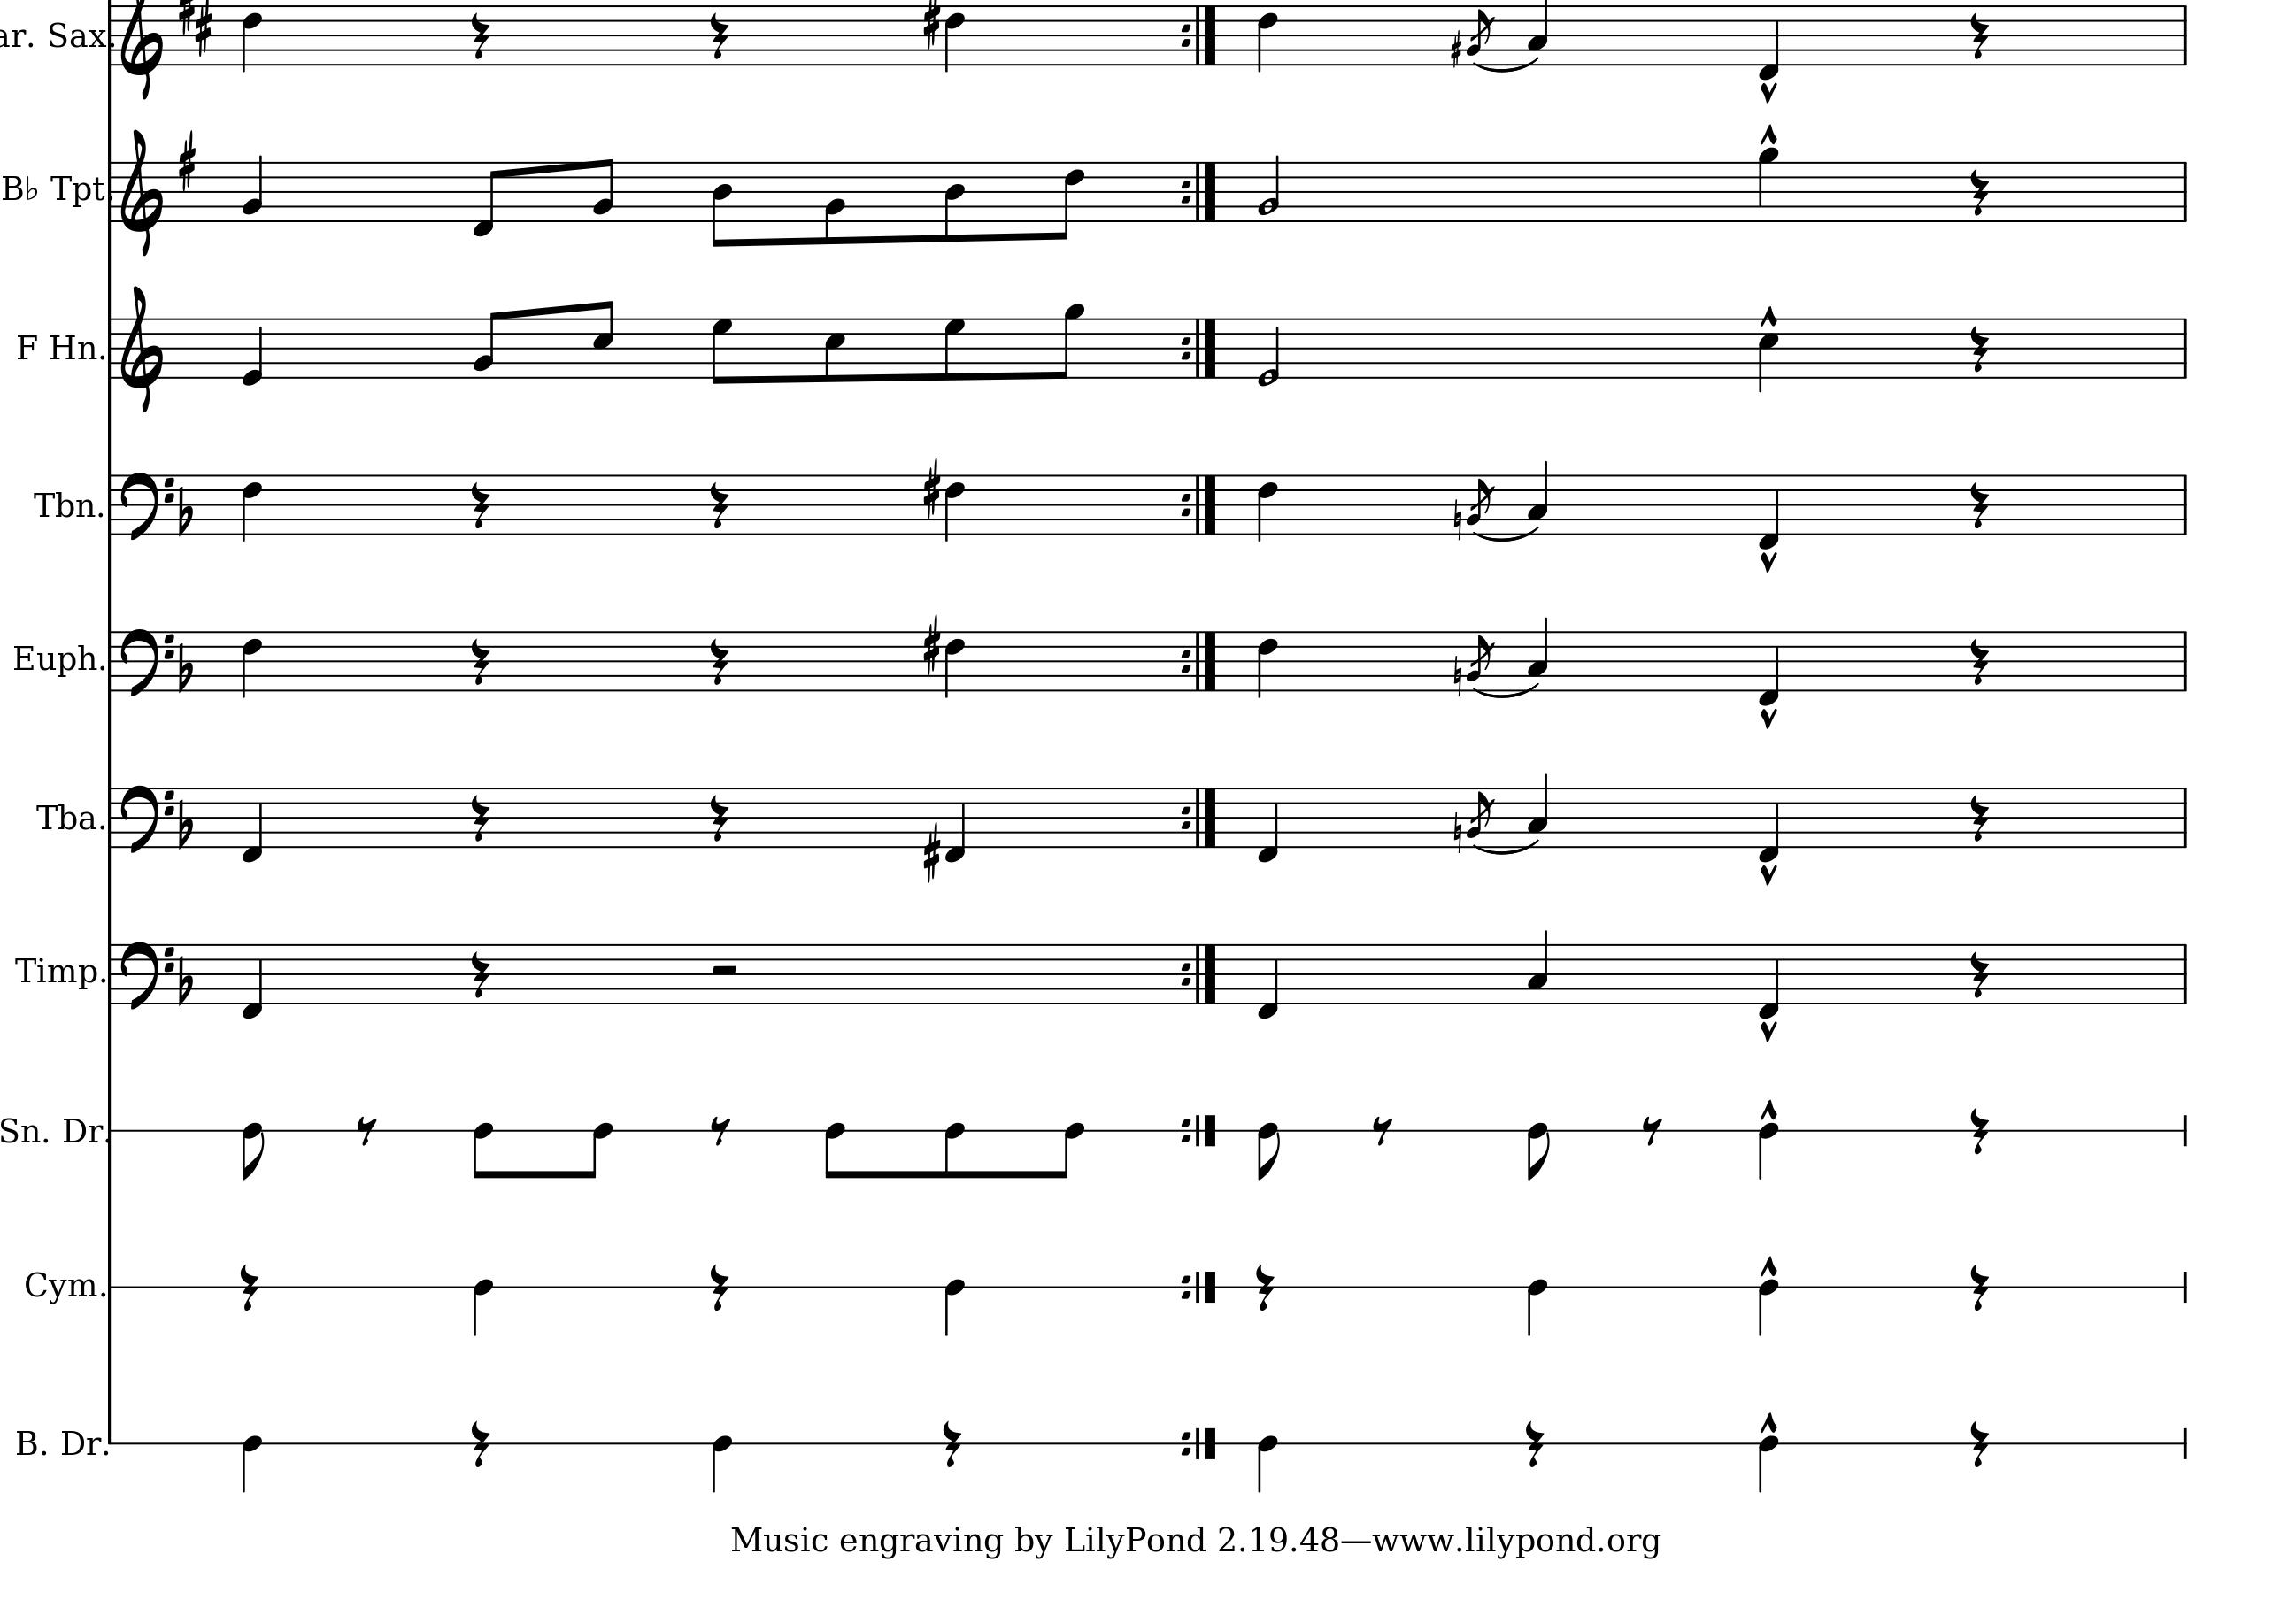2_0: (1256, 314, 1282, 388)
2_2: (1256, 153, 1282, 223)
4_-1: (241, 783, 265, 862), (1256, 785, 1281, 862), (1256, 941, 1281, 1019), (945, 783, 968, 862), (1758, 783, 1781, 862), (242, 940, 265, 1019), (1758, 2, 1781, 79), (1758, 471, 1781, 548), (1758, 629, 1781, 706), (1758, 941, 1781, 1019)
4_0: (241, 316, 265, 388)
4_2: (242, 153, 265, 223)
4_3: (1527, 457, 1549, 536), (1527, 615, 1549, 692), (1527, 771, 1549, 848), (1527, 927, 1549, 1005)
4_4: (1758, 1435, 1787, 1493), (1757, 1121, 1781, 1179), (711, 1432, 734, 1493), (1256, 1432, 1279, 1491), (242, 1432, 264, 1493), (471, 1275, 492, 1337), (943, 1275, 964, 1337), (1527, 1277, 1548, 1338), (1758, 1279, 1781, 1333)
4_5: (1757, 314, 1780, 395)
4_6: (241, 4, 264, 74), (241, 472, 264, 543), (943, 471, 966, 541), (1256, 472, 1279, 543), (241, 629, 264, 699), (1256, 629, 1279, 699), (1256, 4, 1279, 72), (945, 2, 966, 72), (945, 629, 966, 697)
4_9: (1757, 144, 1780, 223)
8_-1: (473, 158, 502, 237)
8_2: (473, 309, 504, 379), (824, 158, 847, 246), (592, 156, 617, 223)
8_4: (710, 158, 733, 249), (943, 160, 966, 244), (1058, 1119, 1084, 1179), (587, 1121, 613, 1179), (241, 1119, 264, 1180), (1256, 1119, 1279, 1180), (1527, 1119, 1549, 1180), (473, 1119, 494, 1180), (824, 1119, 845, 1180), (943, 1119, 964, 1180)
8_5: (592, 297, 615, 379), (824, 314, 848, 385)
8_6: (1054, 158, 1086, 241)
8_7: (942, 316, 968, 383), (710, 316, 734, 386)
8_9: (1054, 302, 1084, 379)
Acciaccature: (1463, 783, 1495, 845), (1465, 472, 1495, 536), (1463, 4, 1497, 60), (1465, 629, 1495, 690)
Euph: (5, 641, 93, 682)
Fclef: (119, 469, 176, 539)
Flat: (119, 625, 176, 696), (121, 782, 176, 854), (121, 940, 174, 1008), (176, 483, 193, 536), (176, 639, 193, 692), (176, 796, 193, 848), (176, 952, 193, 1005)
Gclef: (119, 126, 165, 256), (119, 283, 165, 411), (119, 2, 163, 98)
Hn: (47, 330, 97, 365)
Marcato_above: (1757, 304, 1780, 328), (1757, 1252, 1780, 1277), (1757, 1409, 1780, 1433), (1757, 548, 1780, 571), (1758, 79, 1780, 102), (1757, 862, 1780, 884), (1758, 706, 1780, 727), (1758, 1019, 1780, 1040), (1758, 121, 1778, 144), (1758, 1096, 1778, 1119)
Natural: (1453, 497, 1463, 541), (1453, 653, 1463, 697), (1453, 810, 1463, 854)
Rests2: (708, 961, 740, 978)
Rests4: (1966, 1414, 1994, 1472), (1967, 165, 1990, 218), (1967, 478, 1990, 530), (708, 792, 731, 845), (1967, 321, 1990, 372), (708, 480, 731, 530), (708, 634, 731, 685), (1967, 634, 1990, 685), (469, 949, 492, 999), (1967, 11, 1990, 60), (469, 480, 492, 529), (469, 792, 492, 841), (1967, 790, 1990, 840), (1967, 947, 1990, 996), (469, 636, 492, 683), (1969, 1103, 1990, 1154), (1525, 1417, 1546, 1468), (708, 11, 729, 60), (239, 1263, 260, 1312), (1254, 1263, 1275, 1312), (942, 1419, 963, 1468), (1969, 1259, 1989, 1310), (471, 11, 490, 60), (710, 1263, 729, 1312), (471, 1419, 490, 1468)
Rests8: (355, 1114, 378, 1147), (1370, 1114, 1393, 1145), (1641, 1114, 1664, 1145), (710, 1114, 731, 1145)
RightRepeatSign: (1180, 785, 1219, 847), (1180, 631, 1219, 690), (1180, 943, 1219, 1003), (1180, 5, 1217, 65), (1180, 474, 1217, 534), (1180, 162, 1217, 220), (1182, 318, 1217, 378), (1180, 1426, 1221, 1460), (1180, 1270, 1221, 1302), (1180, 1114, 1219, 1145)
Sax: (47, 21, 105, 53)
Sharp: (176, 128, 199, 191), (921, 457, 942, 518), (922, 613, 942, 674), (922, 824, 942, 882), (922, 2, 942, 47)
Single_barline: (2171, 4, 2196, 65), (2171, 160, 2196, 221), (2171, 787, 2196, 848), (2171, 318, 2196, 378), (2171, 474, 2196, 534), (2171, 631, 2196, 690), (2171, 943, 2196, 1003), (102, 474, 119, 534), (102, 631, 119, 689), (104, 2, 119, 65), (102, 787, 118, 847), (102, 945, 118, 1003), (104, 162, 118, 221), (104, 318, 118, 378)
Slur: (1472, 683, 1541, 699), (1472, 840, 1541, 855), (1472, 527, 1541, 541), (1474, 58, 1541, 72)
Tba: (33, 799, 95, 836)
Tbn: (26, 487, 95, 520)
Timp: (12, 954, 98, 991)
Tpt: (49, 172, 104, 207)
